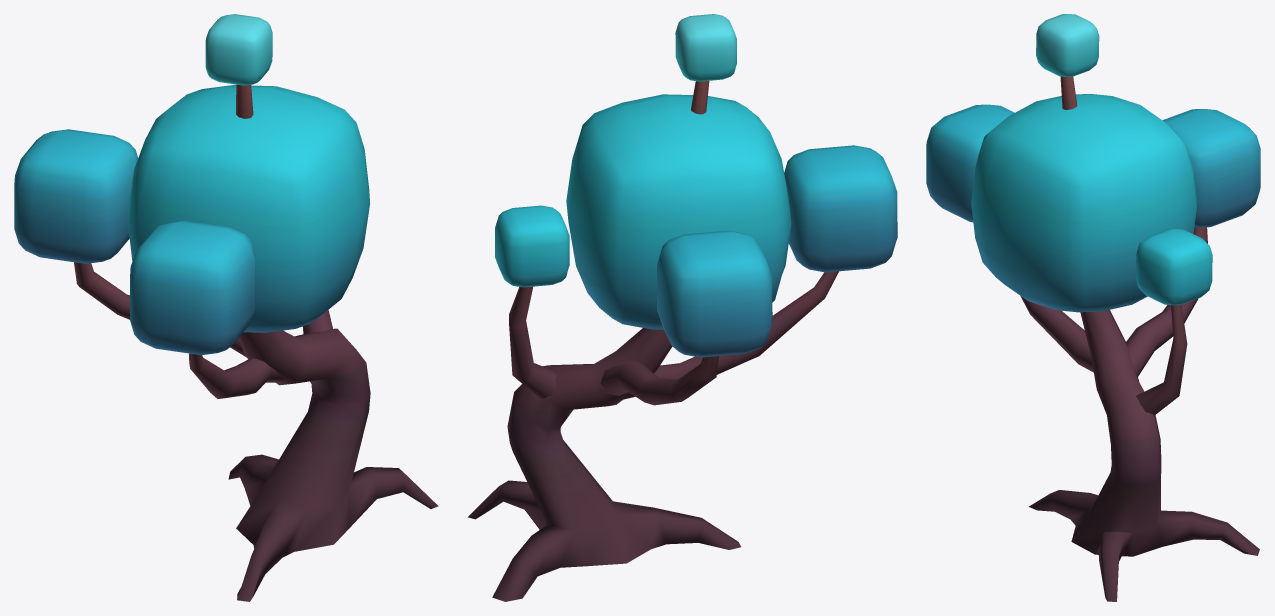
The model's file is Tree_28.fbx.
3 renders of one model, left to right at view 1: azimuth 30°, elevation 25°; view 2: azimuth 150°, elevation 25°; view 3: azimuth 270°, elevation 25°, orthographic. The views are drawn at different scales.
Visible parts, largest first — view 1: Tree_28; view 2: Tree_28; view 3: Tree_28.
Boxes of the visible parts, left/top/right/bottom form: Tree_28: left=14, top=14, right=438, bottom=601; Tree_28: left=468, top=14, right=897, bottom=601; Tree_28: left=926, top=14, right=1260, bottom=601.
Size of the model in its own units: 446 by 637 by 394.
